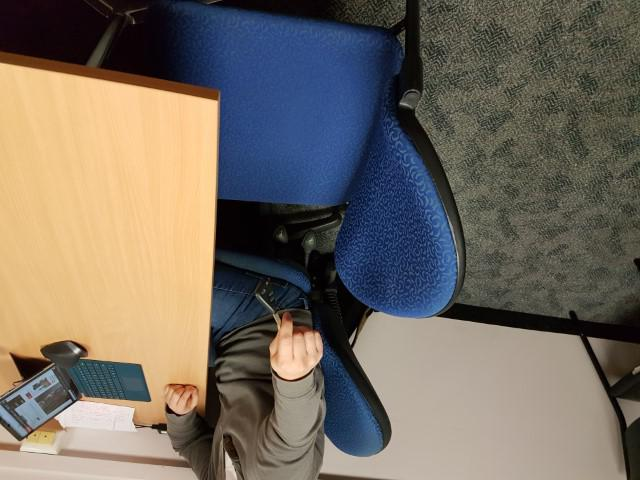key: (254, 275, 286, 332)
